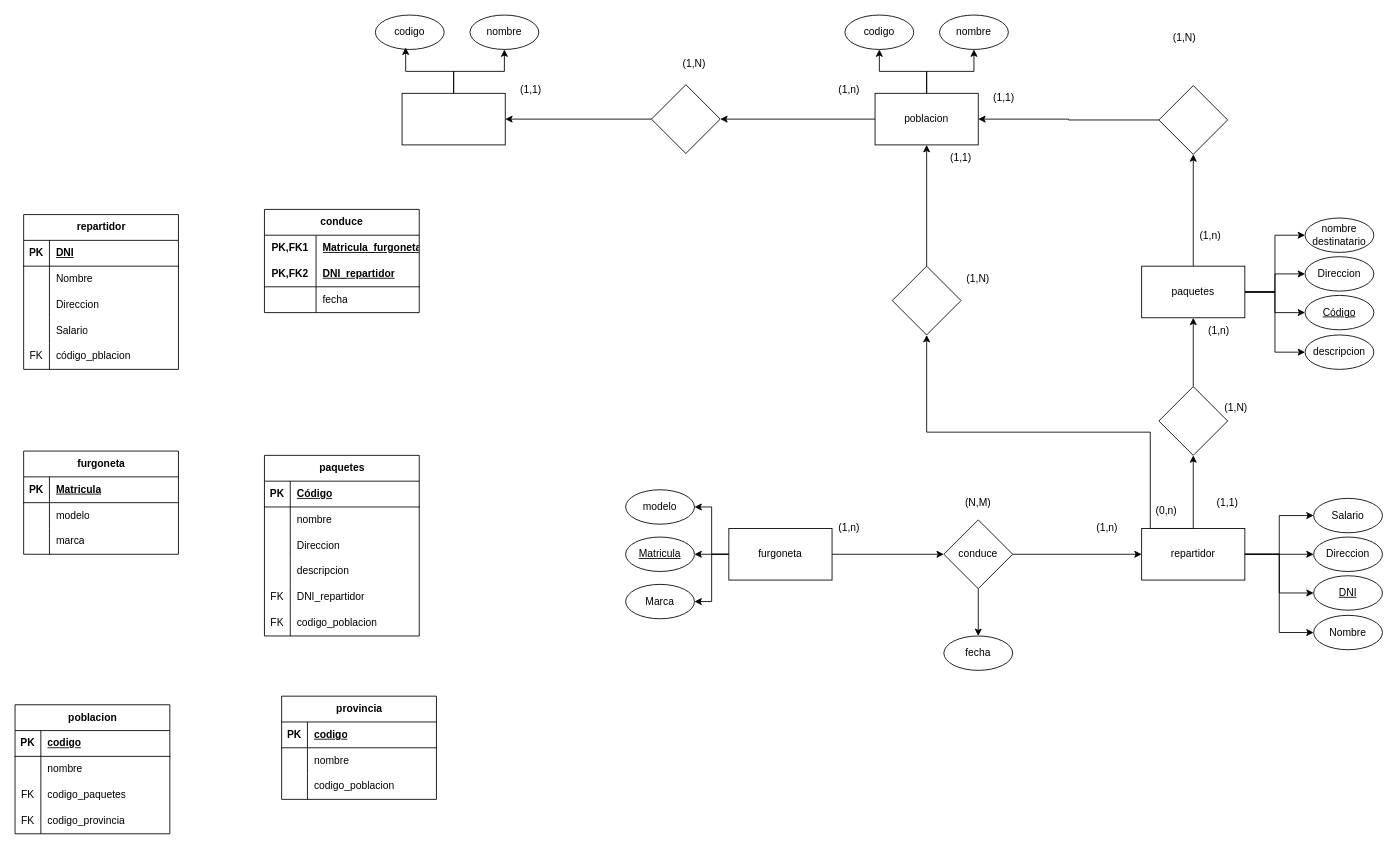
Image size: 1398x849. Some labels were removed from this diagram. The centre of each missing label's shape, as x and y in pixels:
"provincis" belongs at (x=453, y=118).
"reparte" belongs at (x=1193, y=420).
"se envía" belongs at (x=1193, y=119).
"tiene" belongs at (x=685, y=119).
"vive" belongs at (x=926, y=300).
